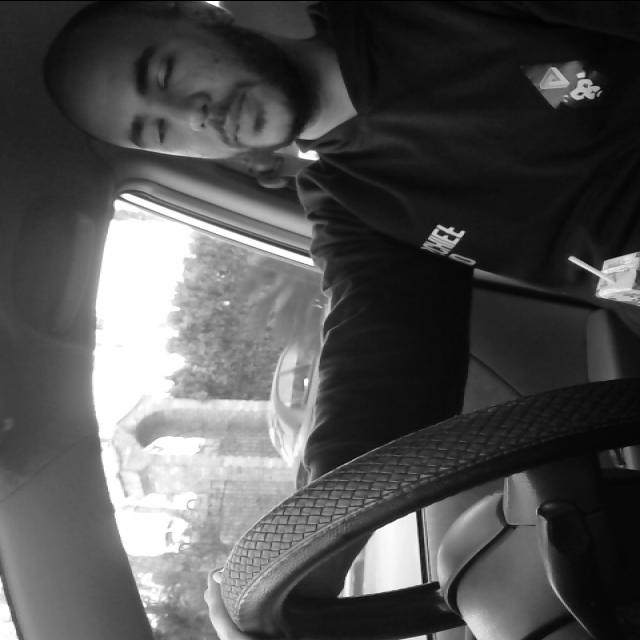drinking: (564, 252, 640, 306)
